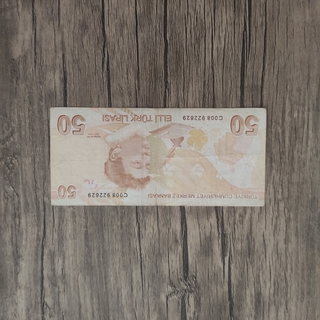50TLBack: (49, 106, 266, 207)
